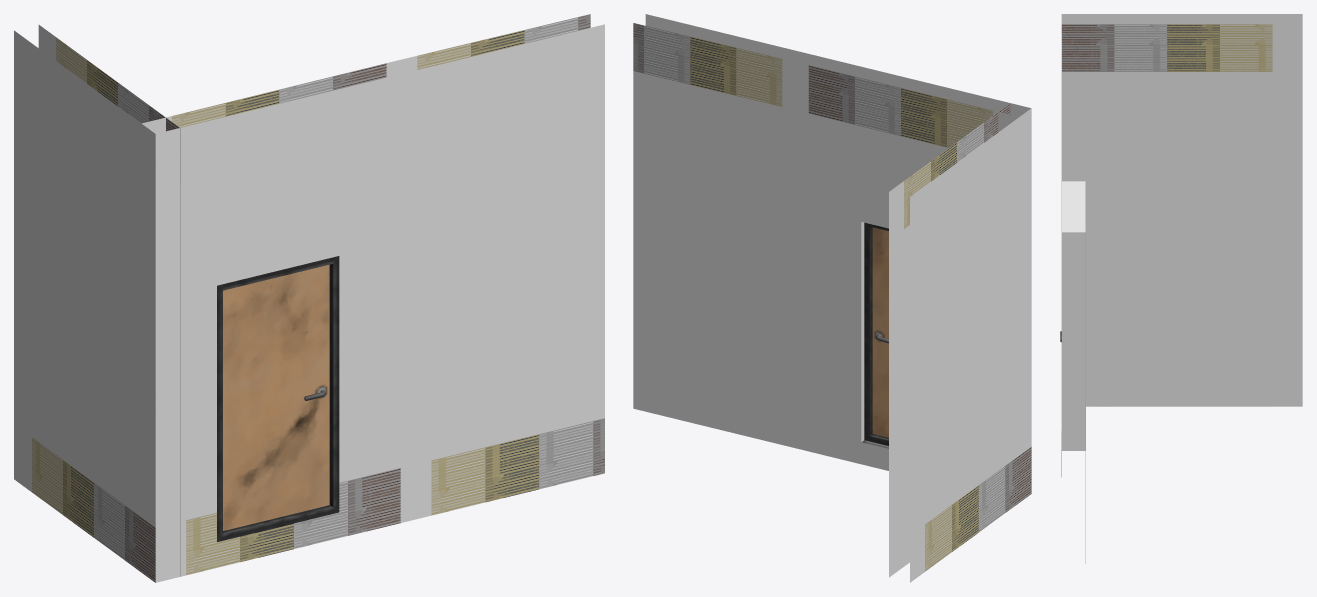
File: Houses2 Additional Room.fbx
3 renders of one model, left to right at view 1: azimuth 30°, elevation 25°; view 2: azimuth 150°, elevation 25°; view 3: azimuth 270°, elevation 25°, orthographic. The views are drawn at different scales.
Parts seen in each view (by area): view 1: House2.001, Door1_2.001; view 2: House2.001, Door1_2.001; view 3: House2.001.
Boxes of the visible parts, x1=… form: House2.001: x1=14, y1=14, x2=604, y2=582; Door1_2.001: x1=223, y1=264, x2=329, y2=530; House2.001: x1=633, y1=14, x2=1031, y2=582; Door1_2.001: x1=872, y1=227, x2=888, y2=437; House2.001: x1=1061, y1=14, x2=1302, y2=563.
Size of the model in its own units: 3.66 by 3.5 by 2.01.
